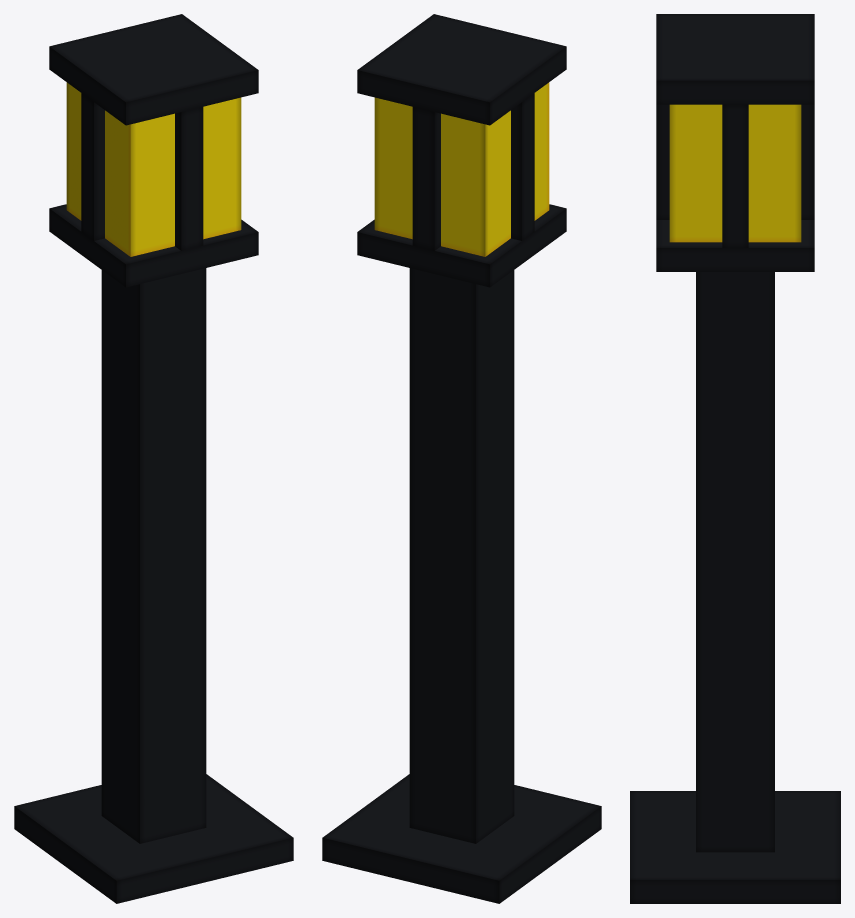
Rendered from lamp.obj.
3 renders of one model, left to right at view 1: azimuth 30°, elevation 25°; view 2: azimuth 150°, elevation 25°; view 3: azimuth 270°, elevation 25°, orthographic. The views are drawn at different scales.
Parts seen in each view (by area): view 1: cube; view 2: cube; view 3: cube.
Boxes of the visible parts, x1=… form: cube: x1=14, y1=14, x2=293, y2=903; cube: x1=322, y1=14, x2=601, y2=903; cube: x1=630, y1=14, x2=840, y2=903.
Bounding box in the file's own units: 1.75 × 7.44 × 1.75.
Materials: 1 (1 with a texture image).
